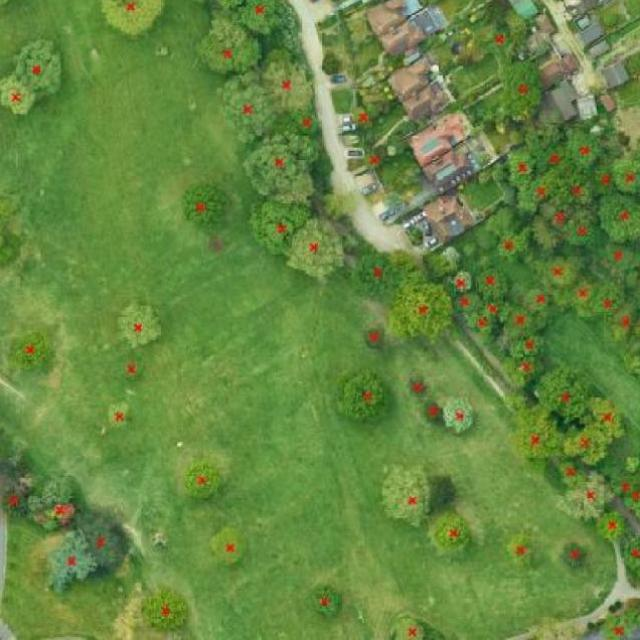tree: (38, 526, 101, 601), (373, 458, 435, 531), (339, 244, 418, 299), (393, 276, 458, 342), (331, 365, 397, 429), (534, 359, 593, 426), (133, 580, 198, 640), (496, 53, 552, 122), (505, 409, 562, 475), (521, 193, 581, 254), (551, 470, 619, 523), (250, 135, 308, 197), (74, 514, 131, 575), (286, 220, 339, 280), (172, 455, 235, 504), (112, 298, 169, 350), (201, 520, 254, 575), (226, 71, 264, 141), (559, 121, 608, 175), (556, 421, 617, 464), (5, 327, 61, 373), (583, 390, 628, 447), (429, 507, 477, 560), (510, 168, 557, 219), (253, 200, 303, 247), (594, 194, 640, 245), (529, 249, 582, 292), (299, 581, 354, 622), (270, 49, 304, 115), (438, 386, 481, 438), (517, 612, 594, 640), (606, 136, 640, 198), (589, 239, 640, 280), (602, 285, 636, 345), (561, 206, 607, 250), (95, 393, 142, 435), (496, 357, 552, 392), (100, 0, 161, 32), (207, 26, 248, 72), (554, 275, 600, 315), (532, 133, 570, 181), (503, 527, 544, 570), (554, 169, 592, 215), (185, 183, 222, 229), (471, 263, 511, 304), (584, 157, 619, 203), (592, 506, 631, 547), (490, 226, 532, 264), (502, 303, 545, 340), (594, 606, 640, 640), (0, 478, 33, 525), (113, 348, 153, 386), (507, 330, 553, 363), (311, 45, 348, 86), (504, 143, 538, 186), (617, 521, 640, 584), (589, 279, 625, 319), (19, 50, 54, 91), (386, 609, 431, 640), (239, 0, 280, 34), (556, 540, 594, 576), (354, 317, 390, 353), (46, 493, 82, 528), (522, 280, 552, 322), (0, 229, 28, 274), (450, 289, 488, 318), (463, 314, 498, 343), (414, 396, 444, 429), (344, 102, 378, 130), (618, 477, 640, 519), (0, 80, 27, 114), (482, 24, 513, 53), (356, 145, 384, 174), (605, 473, 636, 499), (483, 298, 510, 327), (406, 368, 432, 398), (451, 268, 478, 296), (597, 6, 624, 31), (296, 105, 318, 134), (0, 190, 17, 220), (622, 451, 640, 473), (206, 236, 224, 254)
